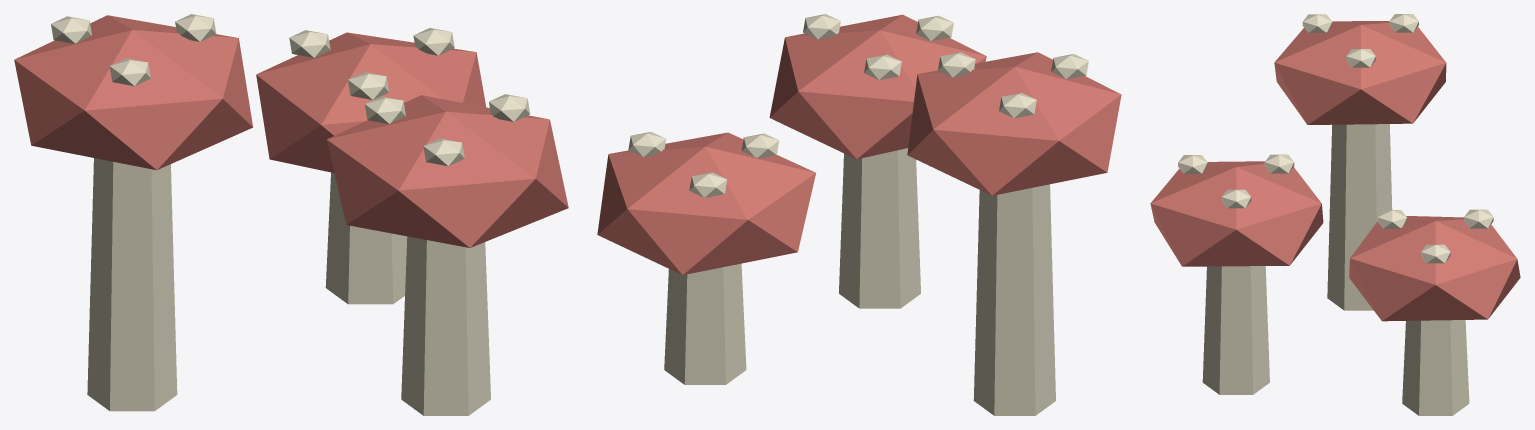
Rendered from enfeite_cogumelos.glb.
The picture shows the model from 3 angles, left to right: view 1: azimuth 30°, elevation 25°; view 2: azimuth 150°, elevation 25°; view 3: azimuth 270°, elevation 25°; orthographic projection. The views are drawn at different scales.
Parts seen in each view (by area): view 1: bosque_enfeite_cogumelos; view 2: bosque_enfeite_cogumelos; view 3: bosque_enfeite_cogumelos.
Part boxes in pixels (x1,y1,x2,y2): bosque_enfeite_cogumelos: (14,14,568,415); bosque_enfeite_cogumelos: (597,14,1121,415); bosque_enfeite_cogumelos: (1150,14,1520,415).
Size of the model in its own units: 0.3436 by 0.242 by 0.297.
